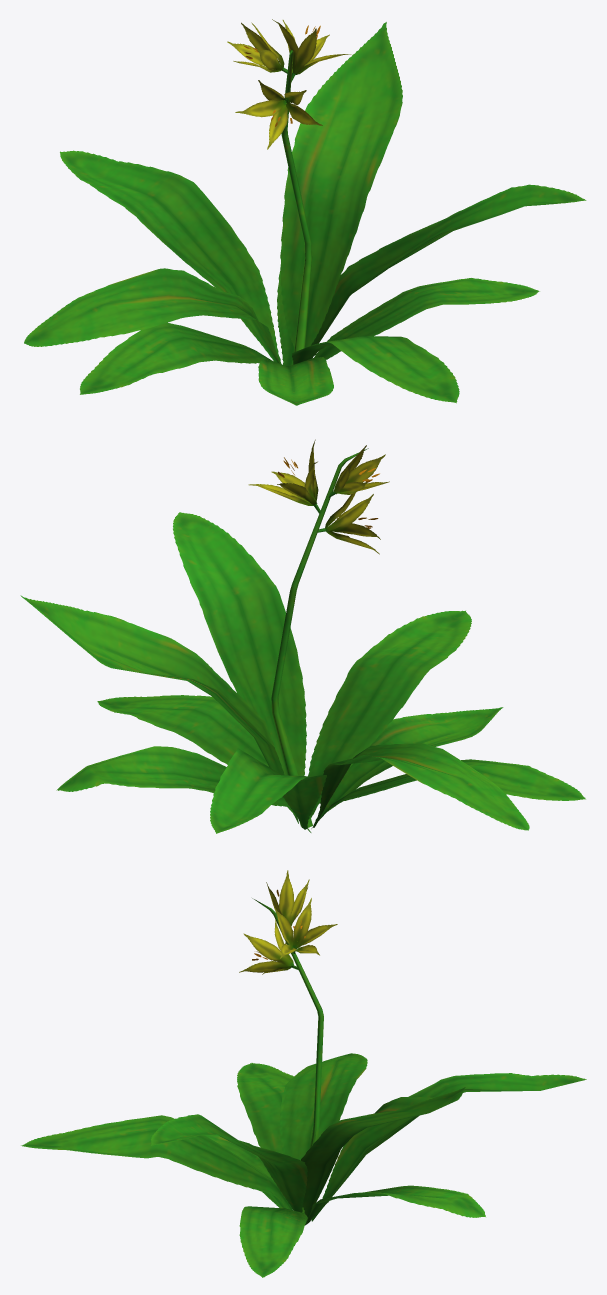
The model's file is berry-2.glb.
3 renders of one model, top to bottom at view 1: azimuth 30°, elevation 25°; view 2: azimuth 150°, elevation 25°; view 3: azimuth 270°, elevation 25°, orthographic. The views are drawn at different scales.
Parts seen in each view (by area): view 1: Plant_flowers_Berry_plant_0; view 2: Plant_flowers_Berry_plant_0; view 3: Plant_flowers_Berry_plant_0.
Part boxes in pixels (box(x1,y1,x2,y2)): Plant_flowers_Berry_plant_0: box(24, 19, 586, 405); Plant_flowers_Berry_plant_0: box(20, 439, 585, 833); Plant_flowers_Berry_plant_0: box(21, 870, 586, 1277).
Size of the model in its own units: 0.9586 by 0.7368 by 1.13.
1 material, 1 textured.
